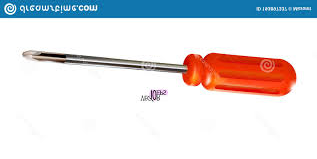screwdriver: (19, 37, 313, 103)
